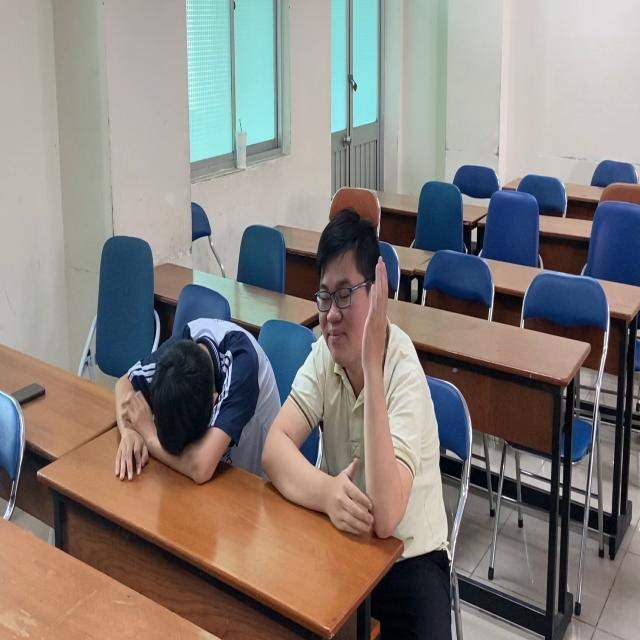raise_hand: (301, 208, 427, 551)
sleep: (113, 303, 282, 503)
